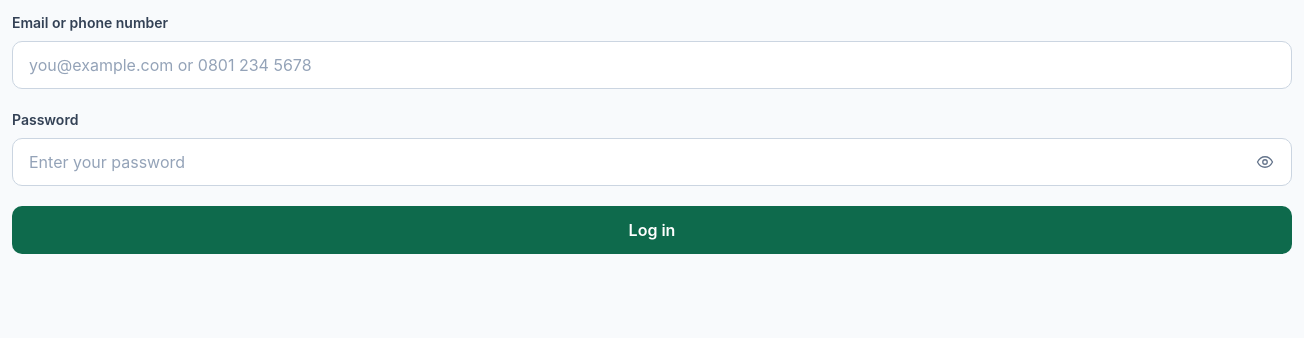
Scenario: <LoginForm /> › surfaces a friendly API error and clears the password on a failed login
Type "john@example.com" into the field labelled "Email or phone number" at (652, 65), box [13,42,1291,88]
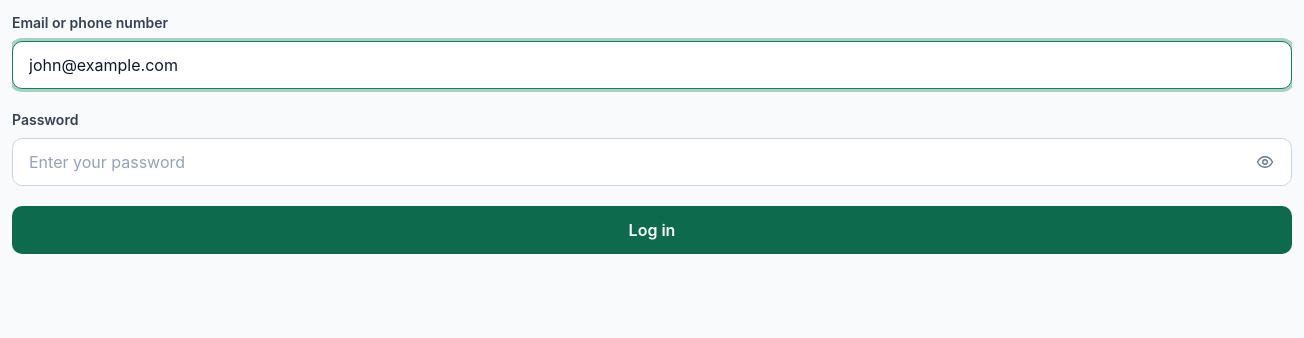
Type "WrongPassword1" into the password field labelled "Password" at (630, 162), box [13,139,1247,185]
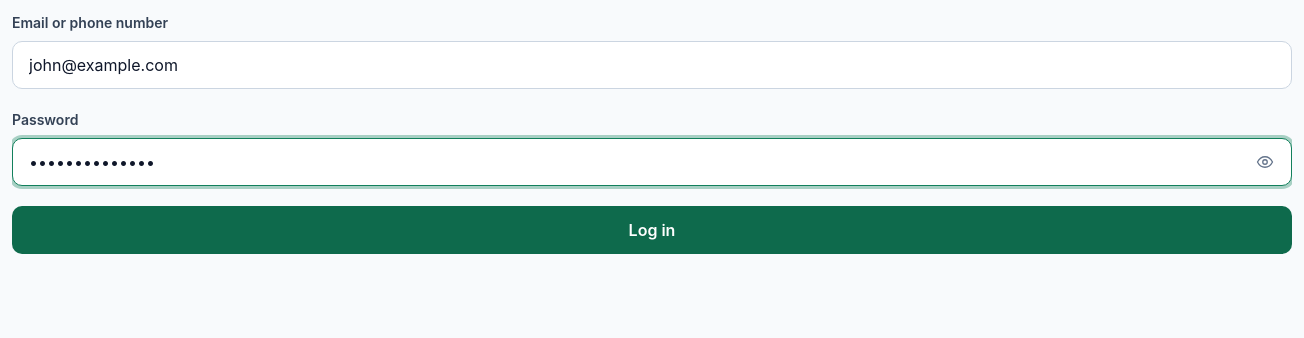
Click the button "Log in" at (652, 230), box [12,206,1292,254]
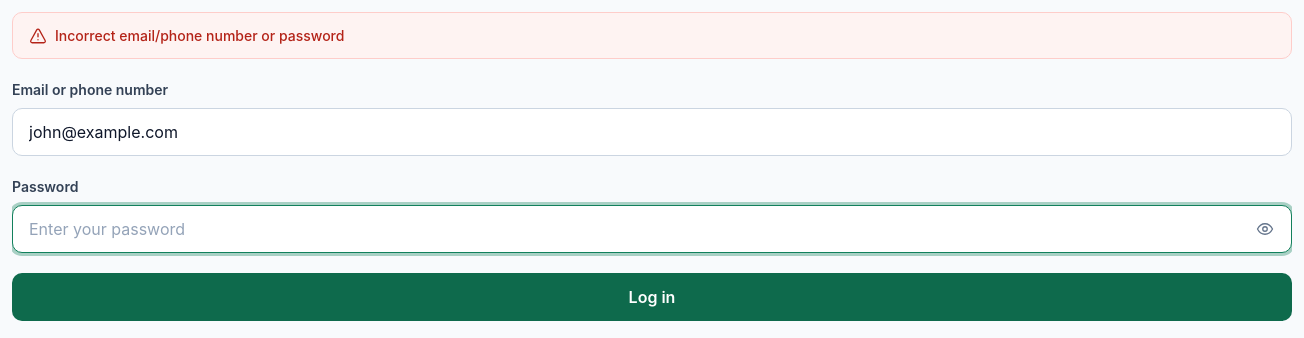
Check: the message reads "Incorrect email/phone number or password", box [55,27,344,44]
Check: the password field labelled "Password" is empty, box [13,206,1247,252]
